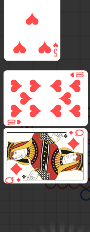10H: (7, 118, 23, 125)
5H: (52, 40, 59, 57)
